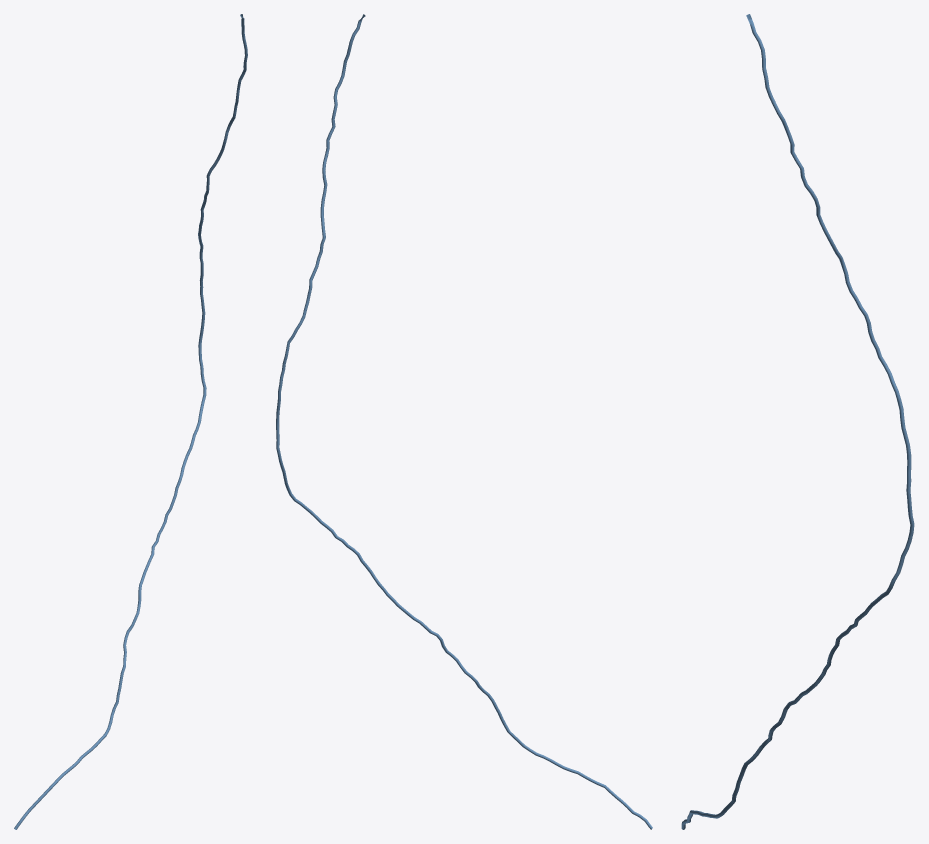
The model's file is sweep115.fbx.
The picture shows the model from 3 angles, left to right: view 1: azimuth 30°, elevation 25°; view 2: azimuth 150°, elevation 25°; view 3: azimuth 270°, elevation 25°; orthographic projection. The views are drawn at different scales.
Visible parts, largest first — view 1: sweep115; view 2: sweep115; view 3: sweep115.
Boxes of the visible parts, box(x1,y1,x2,y2) form: sweep115: box(14, 14, 247, 829); sweep115: box(276, 14, 652, 829); sweep115: box(681, 14, 914, 829).
Bounding box in the file's own units: 2.02 × 5.16 × 1.11.
